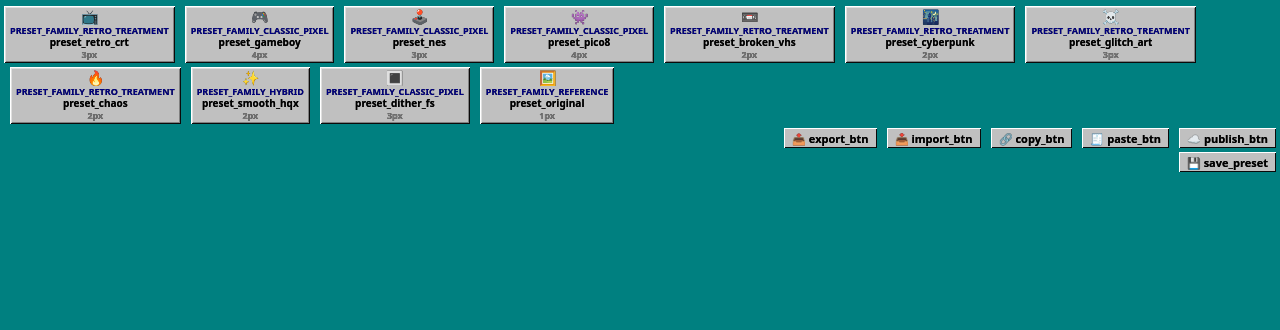
Test case: PresetManager › copies a shared preset link to the clipboard
This screenshot has width=1280, height=330.
What coordinates should you click on to do the following:
click the button with test id "preset-share-copy-link"
I would click on:
 (1032, 138)
Its box is 991,128 -> 1072,148.
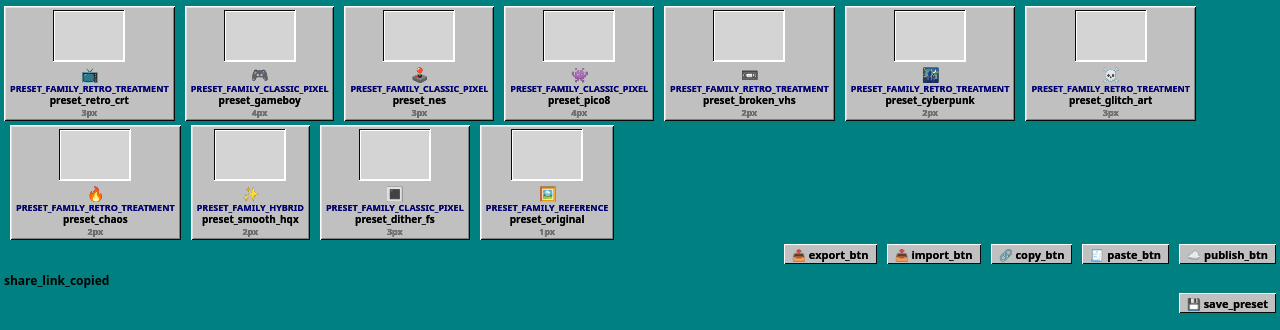
Result: the text "share_link_copied" is shown at 4,272 -> 110,289
